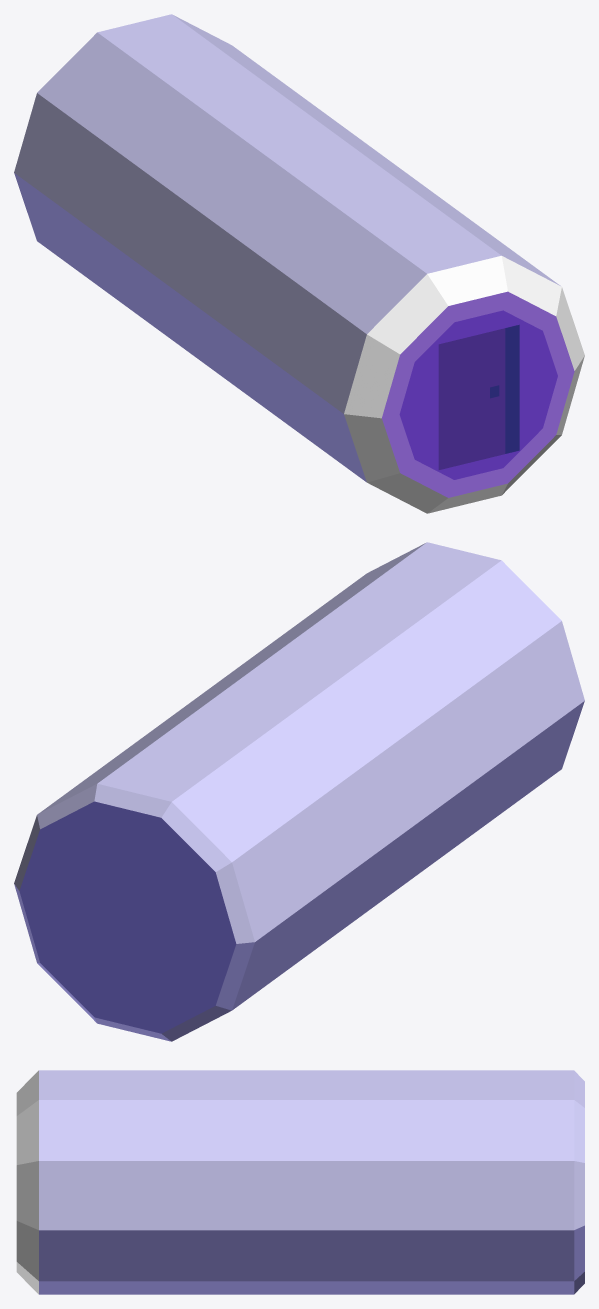
The model's file is Building_017_d.fbx.
3 renders of one model, top to bottom at view 1: azimuth 30°, elevation 25°; view 2: azimuth 150°, elevation 25°; view 3: azimuth 270°, elevation 25°, orthographic. The views are drawn at different scales.
Visible parts, largest first — view 1: Building_017_d; view 2: Building_017_d; view 3: Building_017_d.
Boxes of the visible parts, x1,y1,x2,y2 form: Building_017_d: (14, 14, 584, 513); Building_017_d: (14, 542, 584, 1041); Building_017_d: (16, 1070, 584, 1294).
Bounding box in the file's own units: 5.7 × 5.42 × 14.41.
